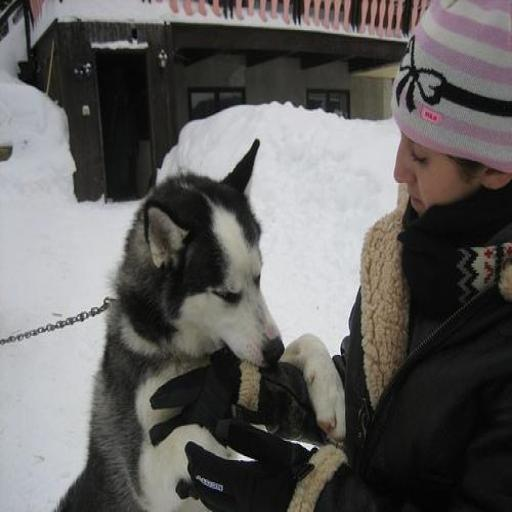dog_face: (148, 133, 278, 363)
